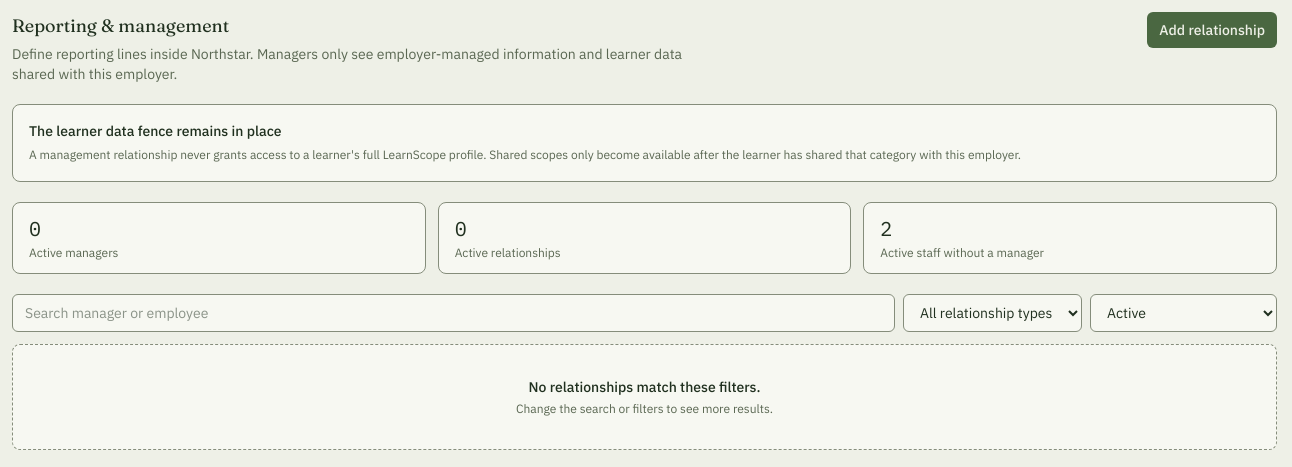
Test: marks relationships with inactive participants as non-active and offers no unsafe mutation
Expected: the heading "Reporting & management" is shown, [12,14,229,37]
Select "Inactive memberships" in the dropdown named "Filter by relationship status": coordinates (1184, 312) [1090,294,1277,332]
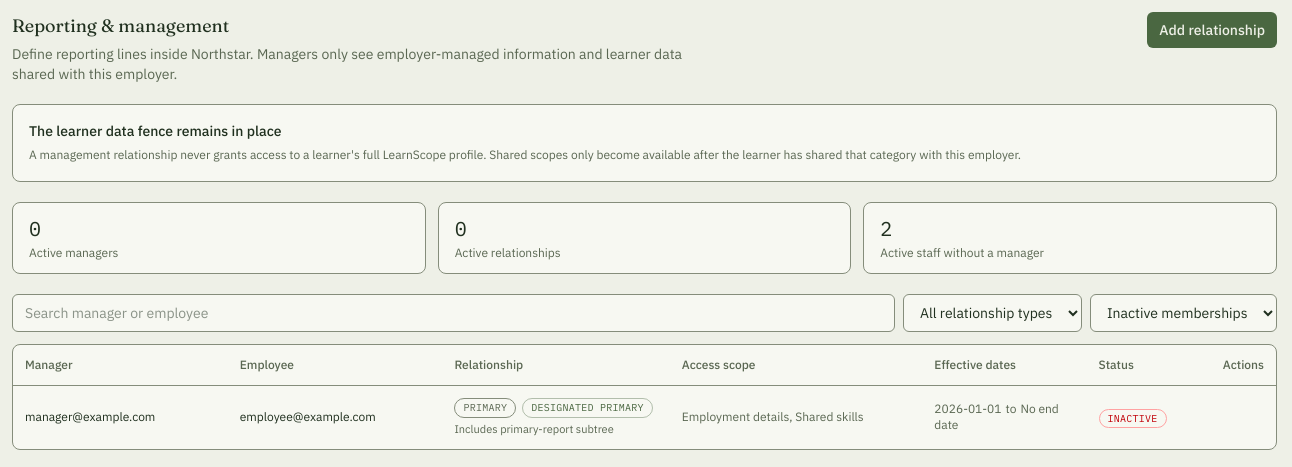
Result: the text "inactive" is shown at [1098,410,1166,428]
